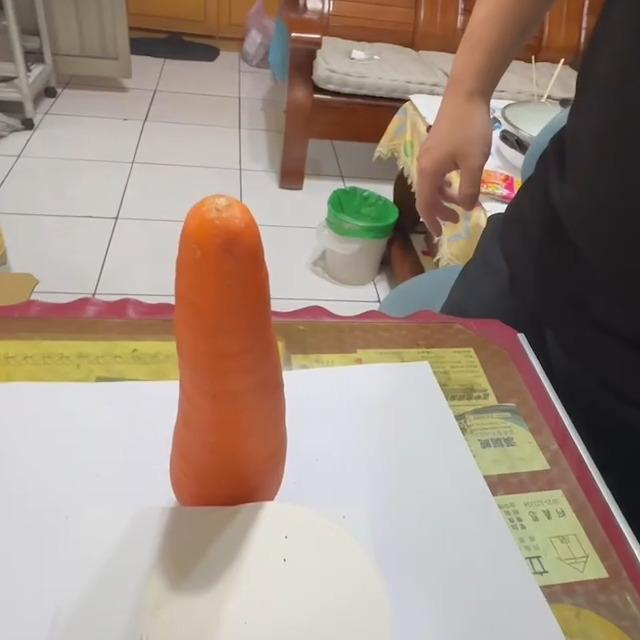carrot: (172, 194, 293, 505)
